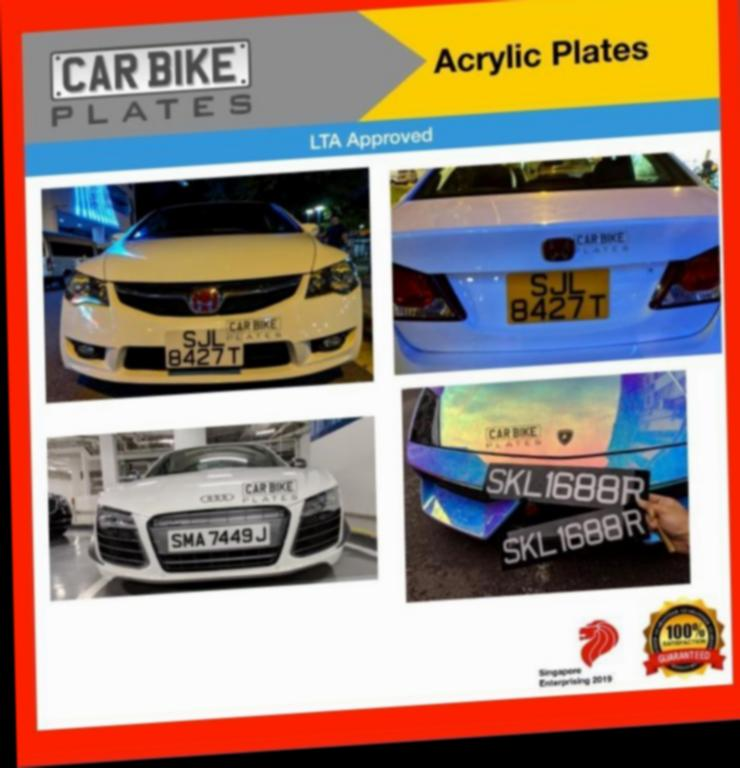License_Plate: (501, 258, 618, 337), (159, 320, 249, 376), (164, 516, 276, 557)
